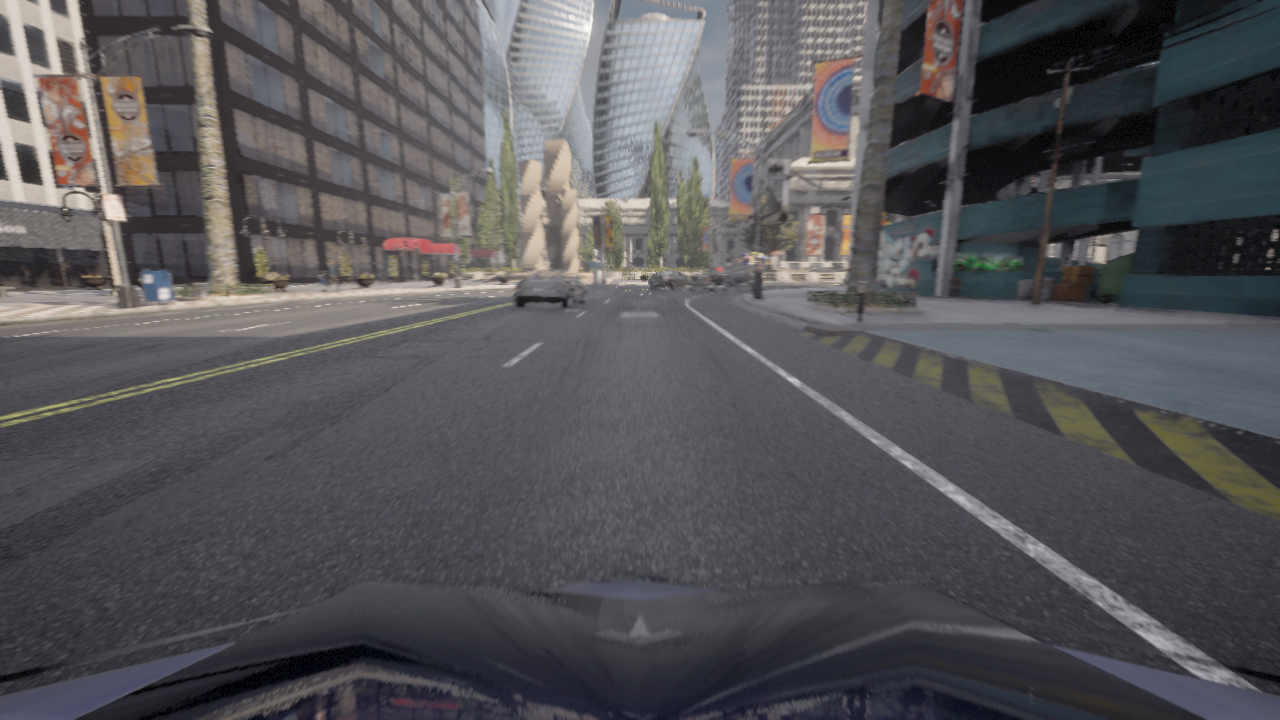cyclist: (0, 569, 1279, 719), (513, 269, 587, 308), (689, 268, 727, 291), (649, 270, 689, 289), (724, 271, 753, 285), (843, 273, 847, 285)
pedestrian: (324, 260, 341, 292), (319, 271, 328, 291)
